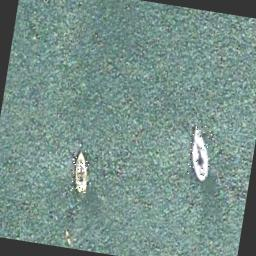boat: (184, 122, 216, 183), (68, 149, 92, 193)
